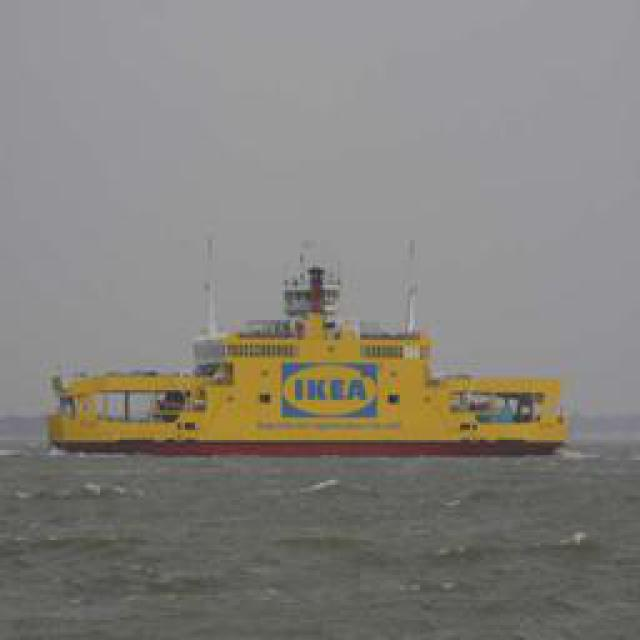Ship: (51, 337, 561, 457)
